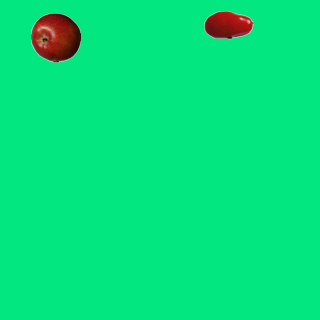Apple Braeburn: (30, 12, 80, 62)
Tomato 2: (203, 0, 253, 49)
